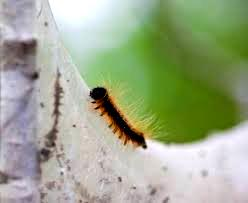Caterpillar: (84, 81, 150, 150)
